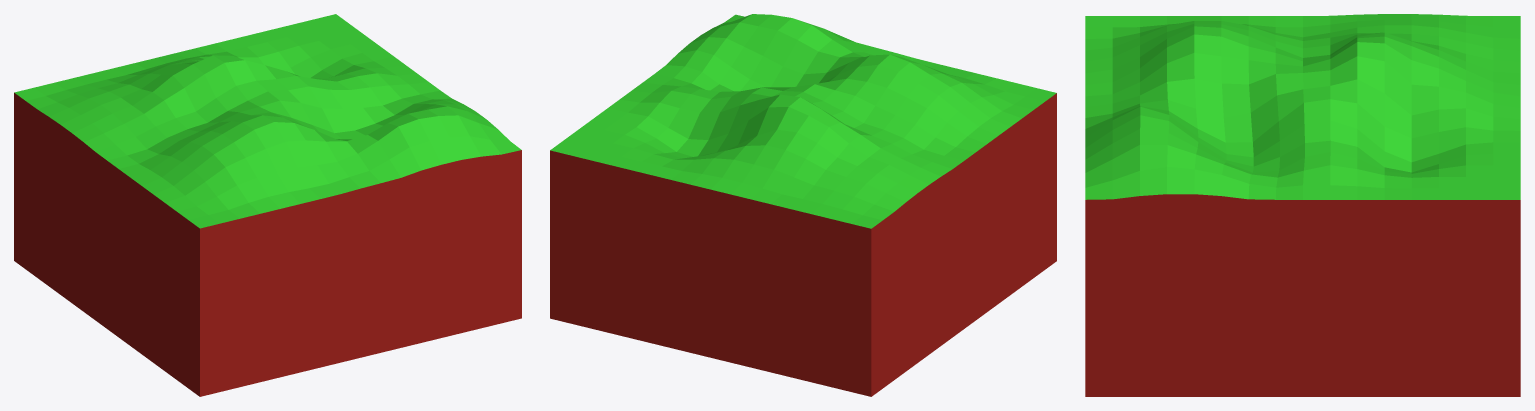
File: grassblock7.fbx
3 renders of one model, left to right at view 1: azimuth 30°, elevation 25°; view 2: azimuth 150°, elevation 25°; view 3: azimuth 270°, elevation 25°, orthographic. The views are drawn at different scales.
Visible parts, largest first — view 1: Cube; view 2: Cube; view 3: Cube.
Boxes of the visible parts, x1,y1,x2,y2 form: Cube: (14,14,521,396); Cube: (550,14,1056,396); Cube: (1085,14,1520,396).
Size of the model in its own units: 100 by 63.79 by 100.
